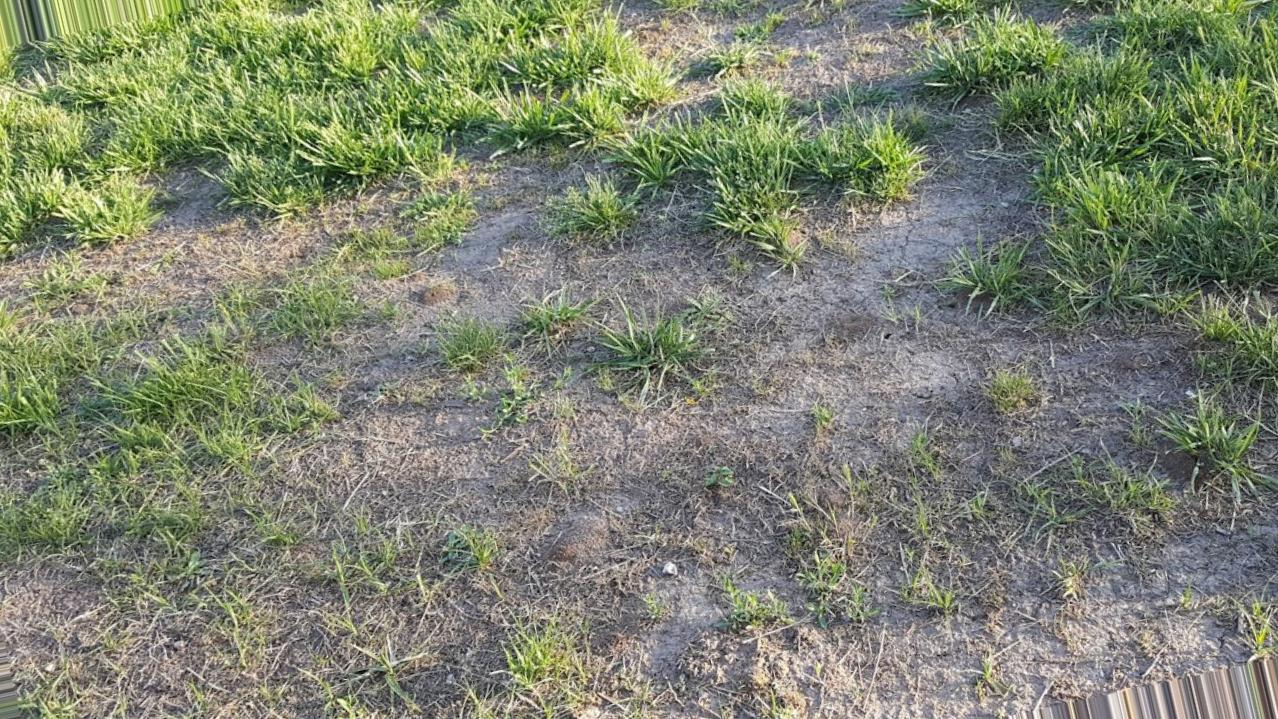patch: (124, 264, 1134, 701), (924, 146, 1021, 271), (698, 53, 891, 87)
